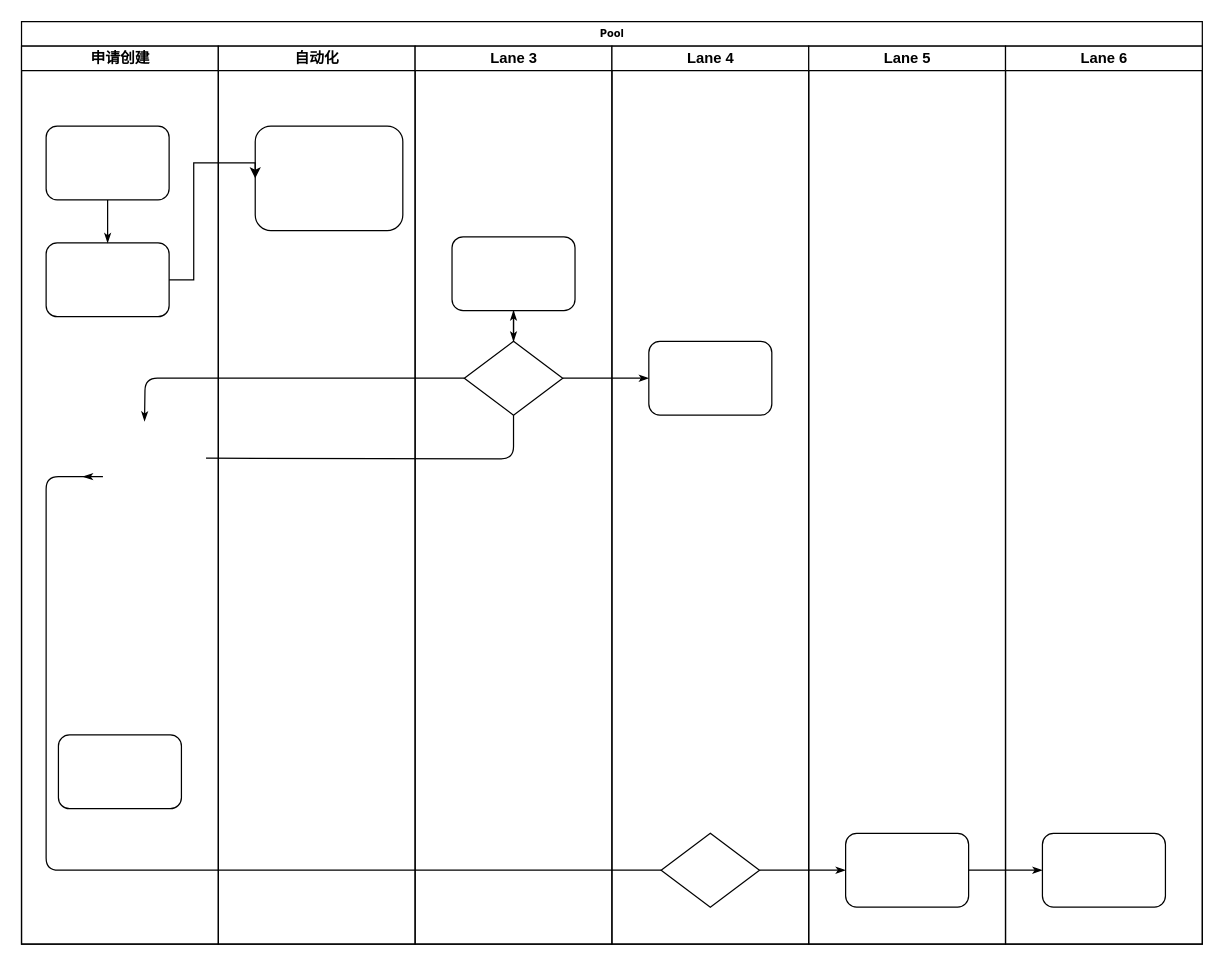
This 1224x966 diagram has some shape labels left out. Each missing label, with the centre of its shape:
"SIG申请" belongs at point (107, 162).
"根据yml文件字段，自动创建对应sig的team自动关联成员以及所维护的仓库" belongs at point (328, 178).
"确认所维护的仓库以及SIG成员ID，使用yml文件记录" belongs at point (107, 279).
